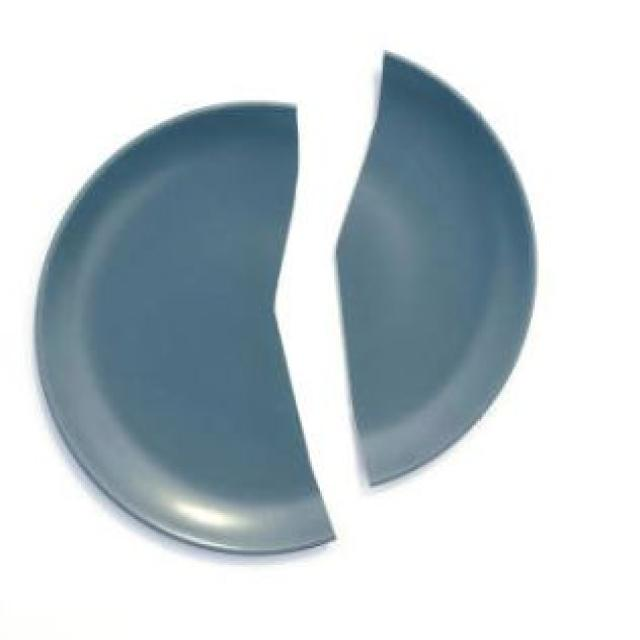electronic: (29, 45, 537, 558)
